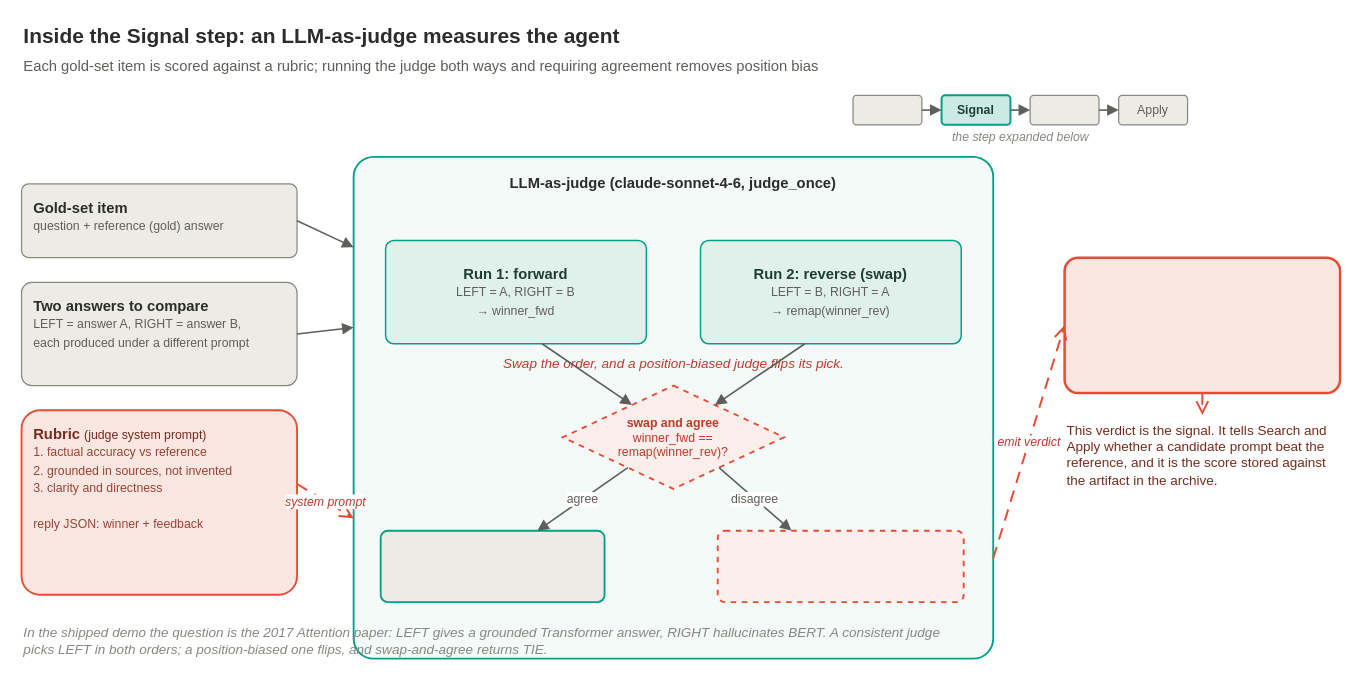
This 1363x686 diagram has some shape labels left out. Each missing label, with the centre of its shape:
"Act" belongs at [887,109].
"Measured signal winner ∈ {LEFT, RIGHT, TIE} agreed flag one-sentence feedback" belongs at [1202,325].
"Search" belongs at [1064,109].
"TIE , agreed = False judge disagreed across the swap; trust neither run" belongs at [840,565].
"winner : LEFT or RIGHT agreed = True" belongs at [492,565].
